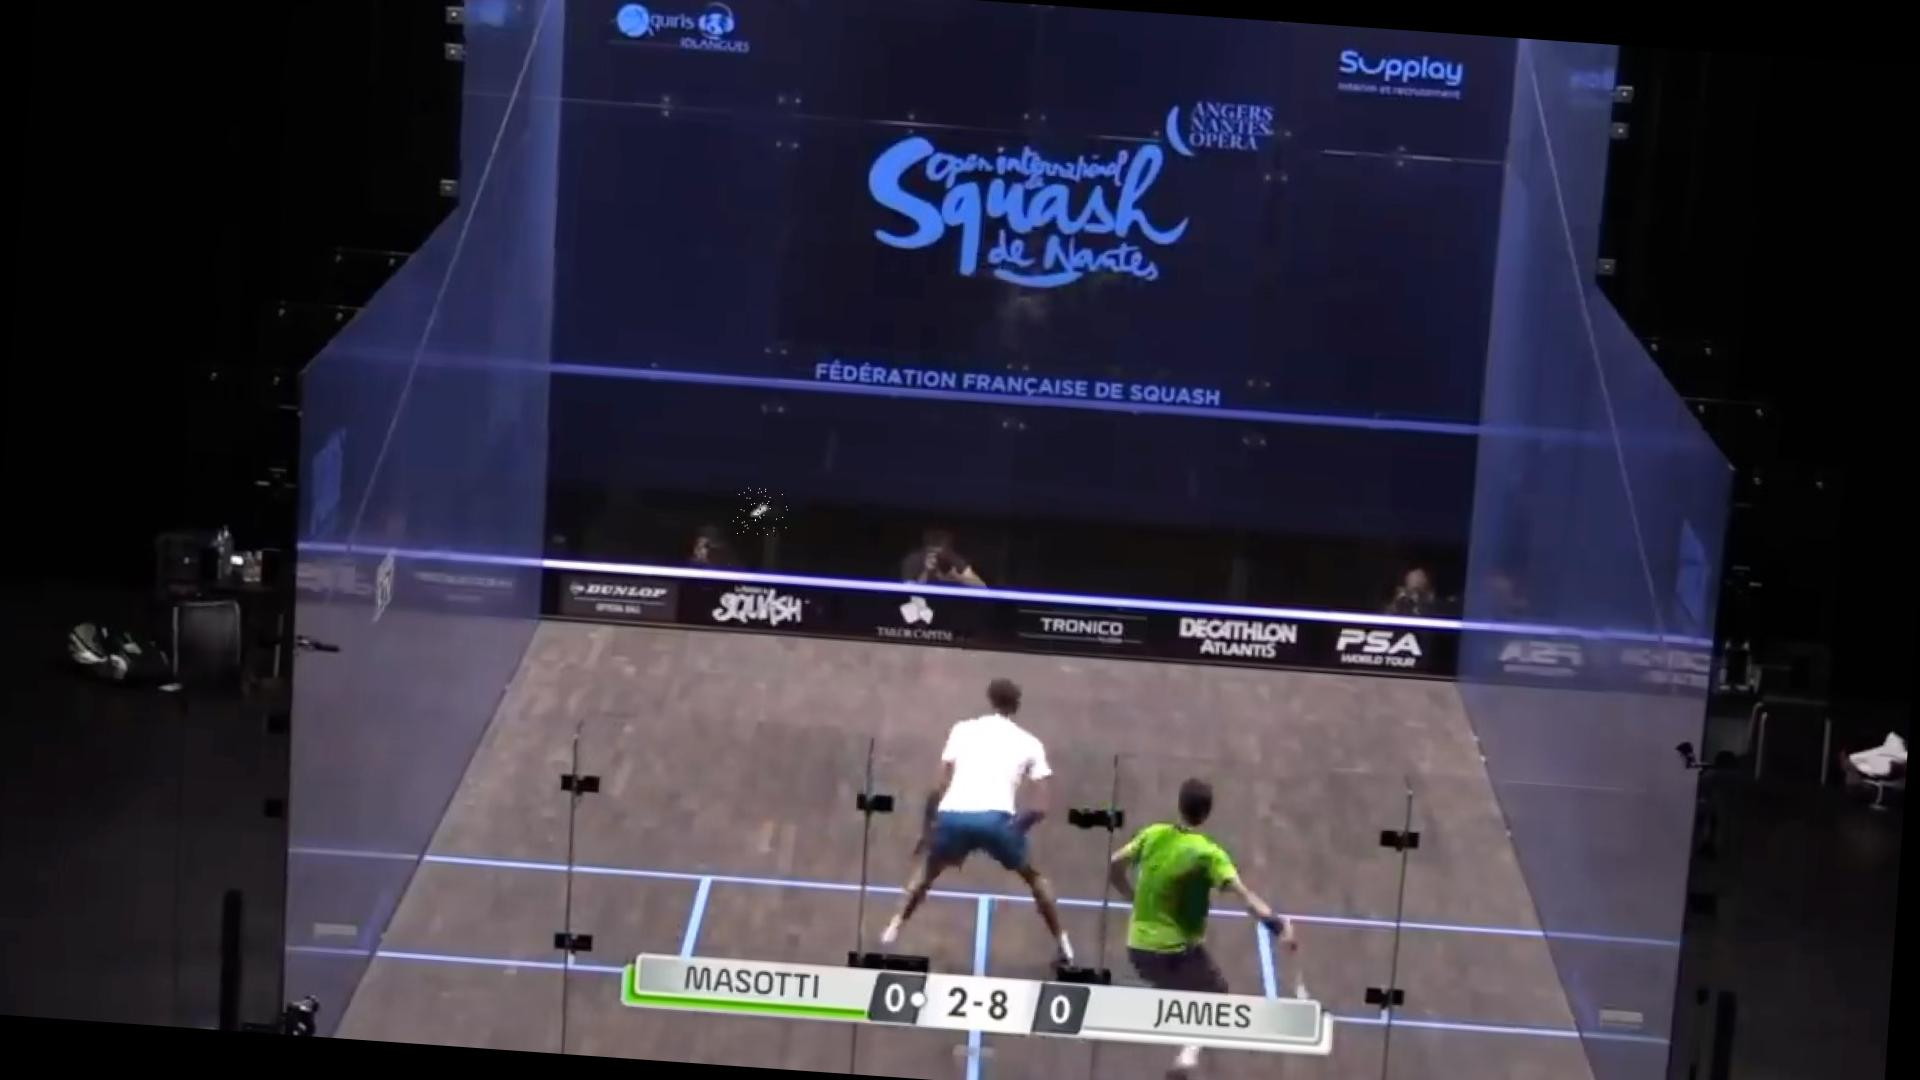Squash-Ball: (732, 487, 793, 538)
